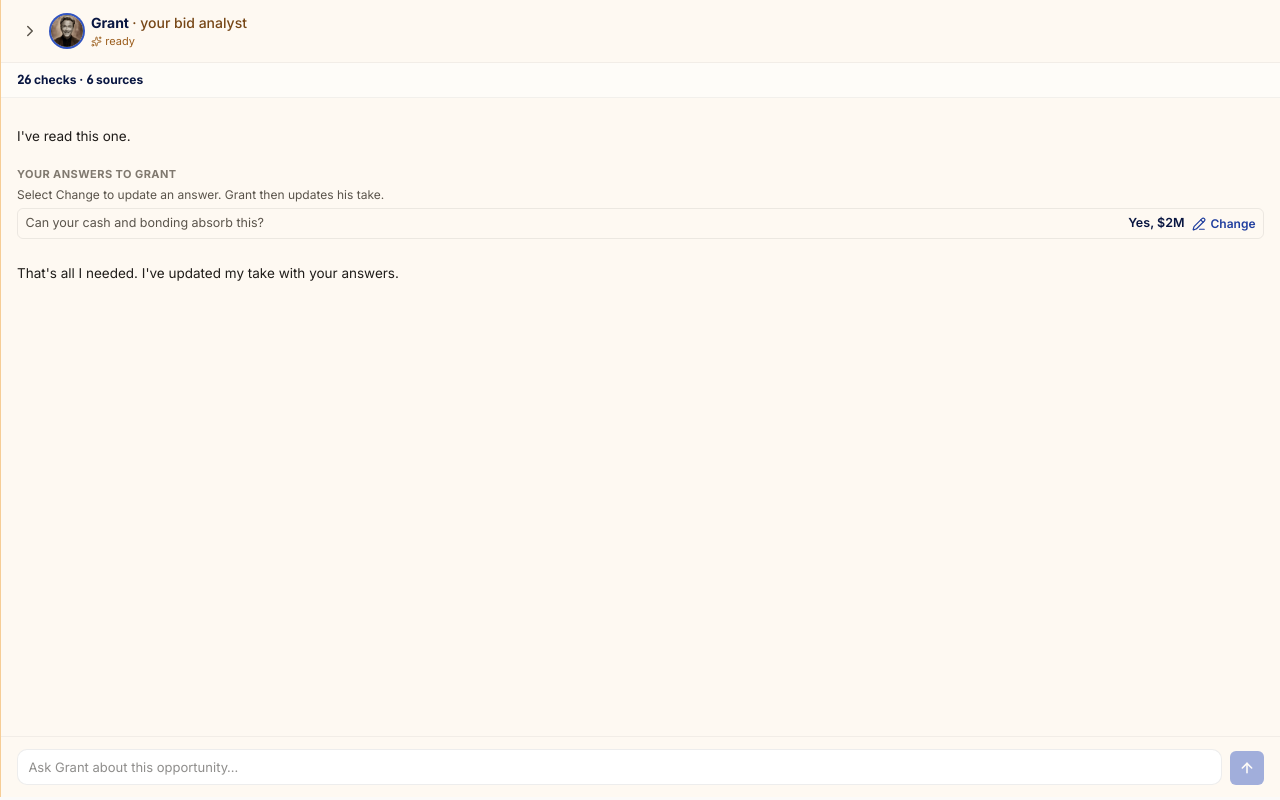
Test: GrantRail — answered questions are revisable (edit answers) › submitting a revision sends it anchored to the question so the store overwrites
Click the button named "Change your answer to Can your cash and bonding absorb this?. Current answer: Yes, $2M" at (145, 223), box x1=17 y1=208 x2=1264 y2=239
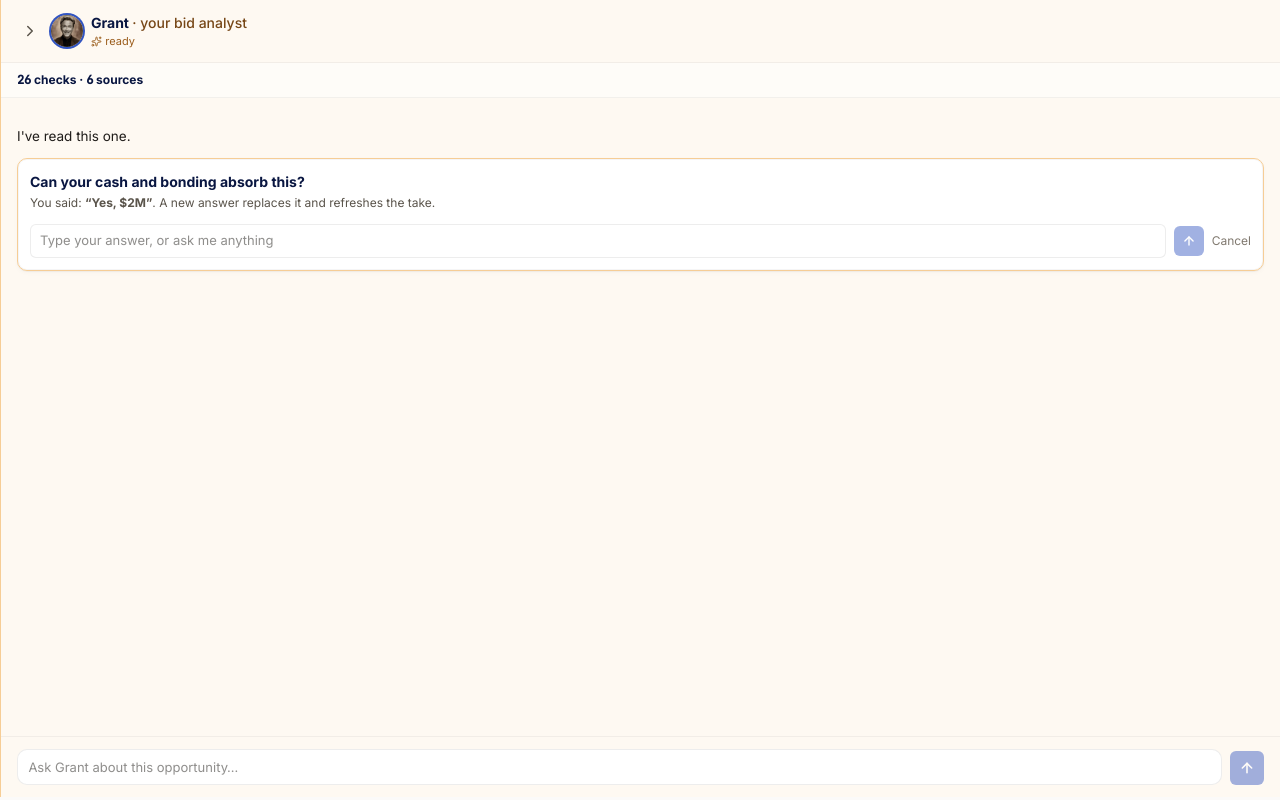
Type "Actually no — bonding lapsed" into the field with placeholder "Type your answer, or ask me anything" at (598, 241), box x1=30 y1=224 x2=1166 y2=258
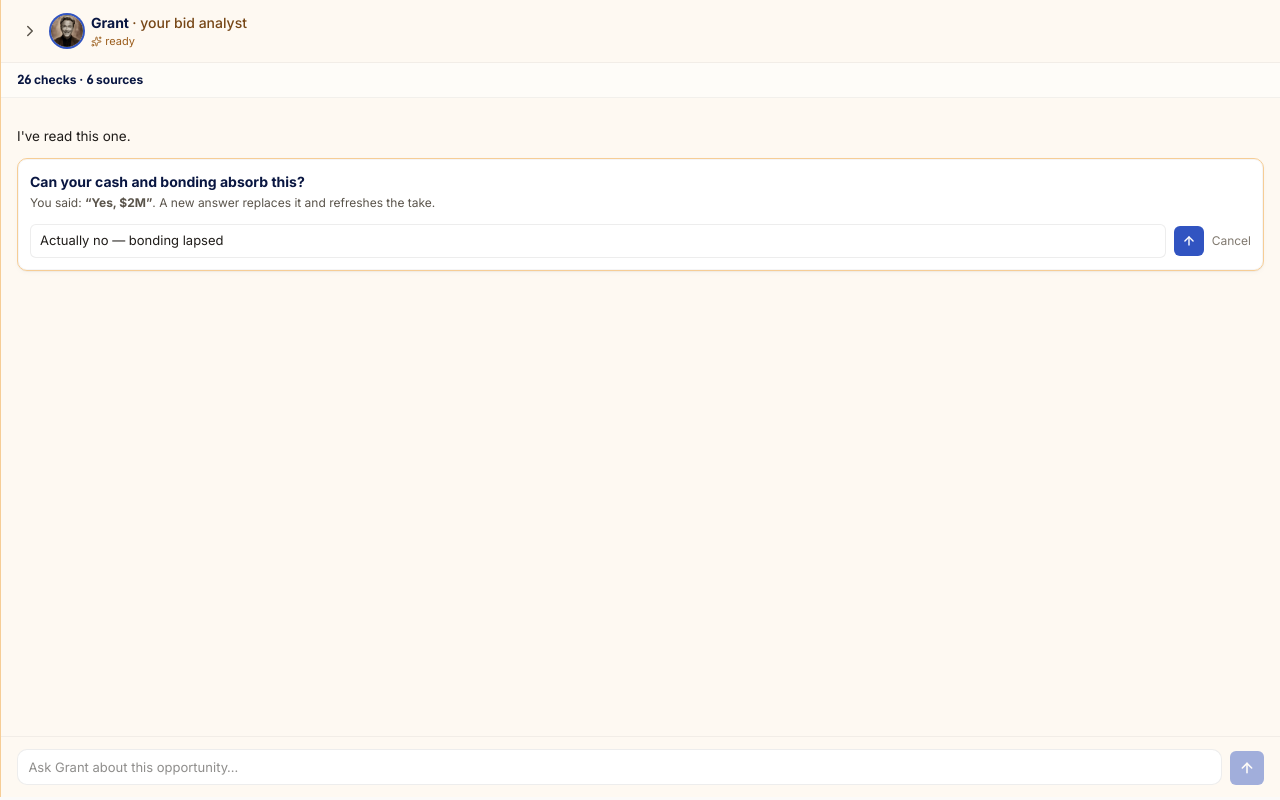
Submit the form with placeholder "Type your answer, or ask me anything", box x1=30 y1=224 x2=1251 y2=258
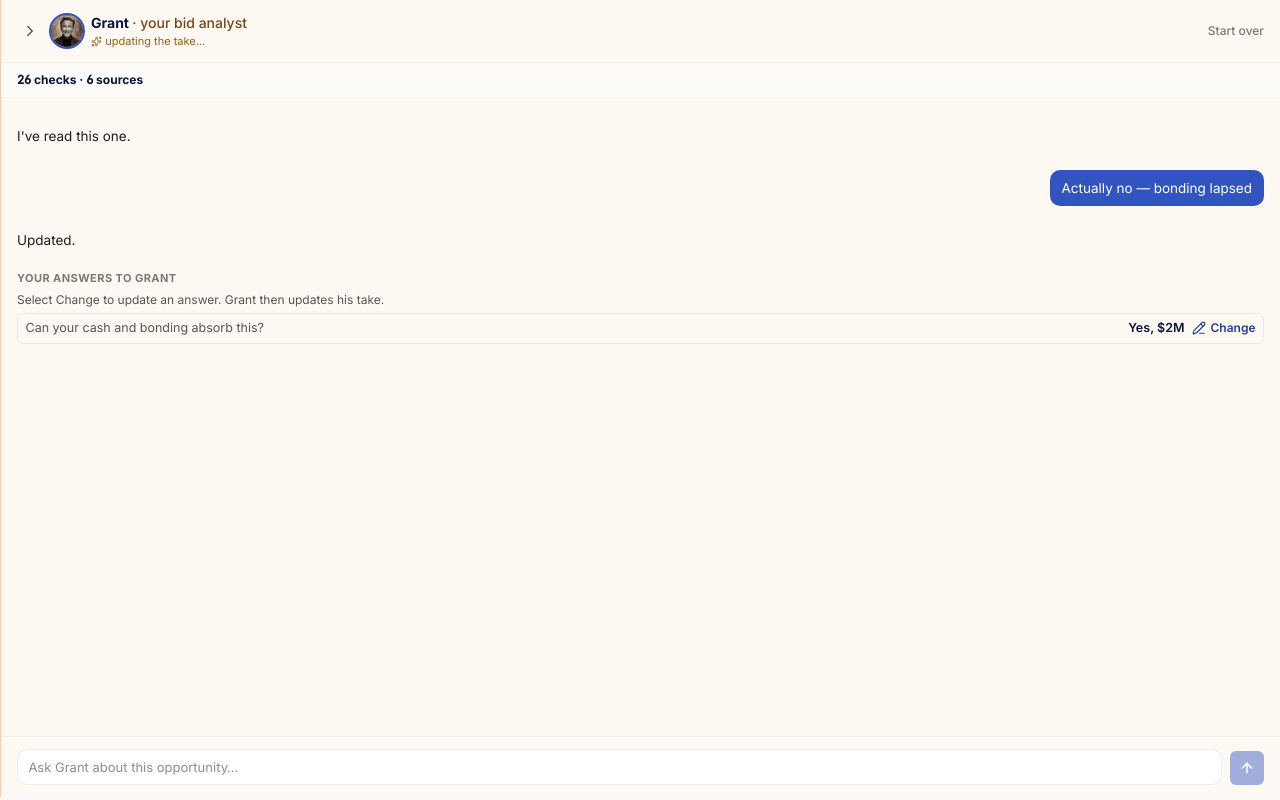
Expected: the button "Cancel" is gone
